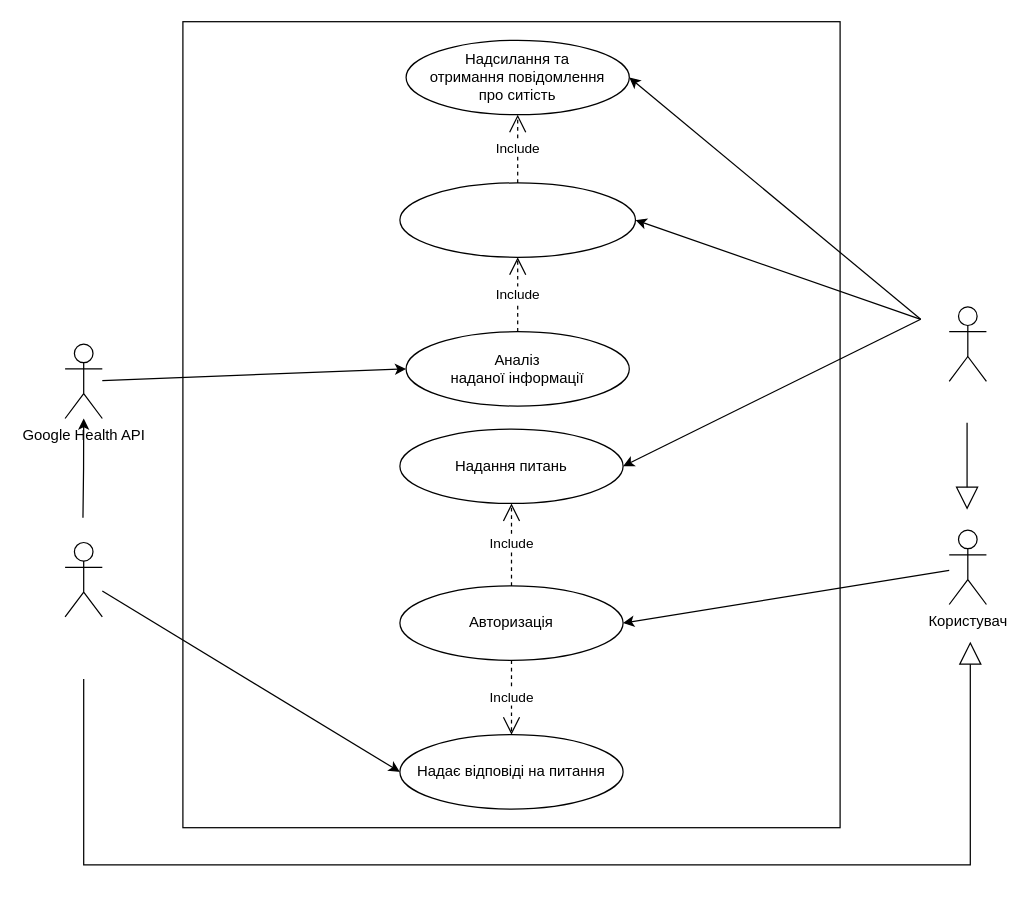
Some shapes in this 1029 by 909 pixel diagram are drawn without their labels. The shapes that lost their labels are listed below. From the top down, each one's centre as x and y in pixels, then its label:
At point 517,219: "Отримання повідомлення про проблеми".
At point 967,343: "Споживач".
At point 83,579: "Працівник центру здоров'я".
